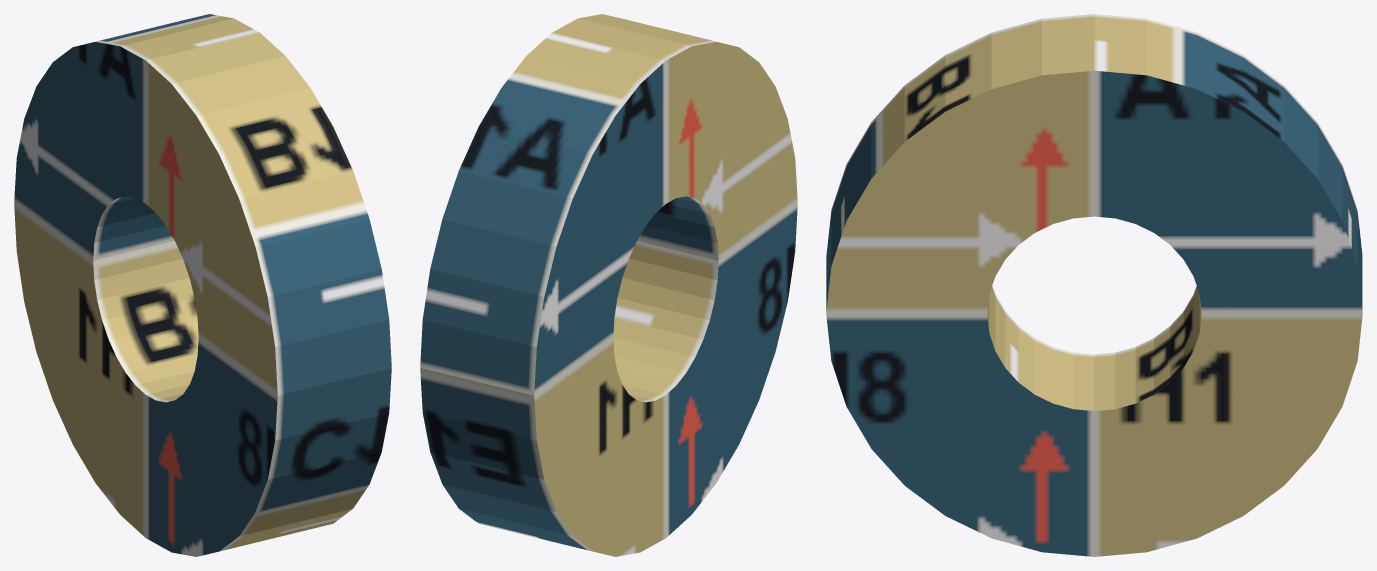
Rendered from PIPE_Flange.fbx.
3 renders of one model, left to right at view 1: azimuth 30°, elevation 25°; view 2: azimuth 150°, elevation 25°; view 3: azimuth 270°, elevation 25°, orthographic.
Visible parts, largest first — view 1: PIPE_Flange; view 2: PIPE_Flange; view 3: PIPE_Flange.
Boxes of the visible parts, left/top/right/bottom form: PIPE_Flange: left=14, top=14, right=391, bottom=556; PIPE_Flange: left=420, top=14, right=797, bottom=556; PIPE_Flange: left=826, top=14, right=1362, bottom=556.
Bounding box in the file's own units: 10 × 40 × 40.
1 material, 1 textured.
